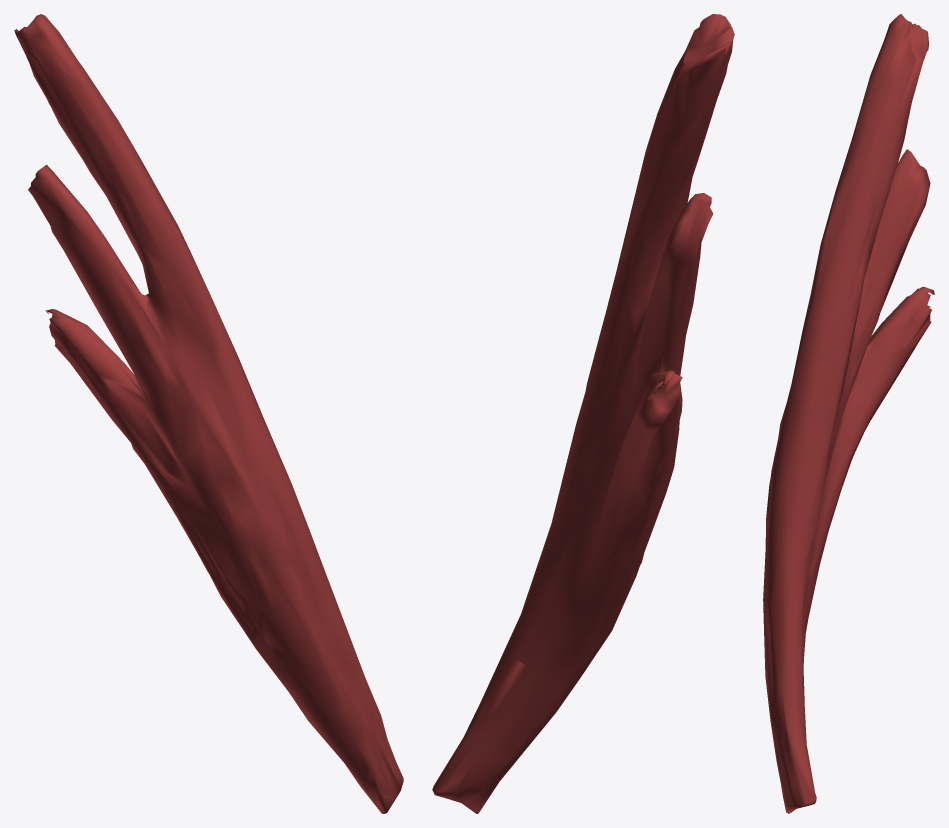
File: scalenus-anterior-muscle-l.glb
The picture shows the model from 3 angles, left to right: view 1: azimuth 30°, elevation 25°; view 2: azimuth 150°, elevation 25°; view 3: azimuth 270°, elevation 25°; orthographic projection. The views are drawn at different scales.
Visible parts, largest first — view 1: Scalenus anterior muscle.l; view 2: Scalenus anterior muscle.l; view 3: Scalenus anterior muscle.l.
Part boxes in pixels (x1,y1,x2,y2): Scalenus anterior muscle.l: [14, 14, 403, 813]; Scalenus anterior muscle.l: [432, 14, 734, 813]; Scalenus anterior muscle.l: [763, 14, 934, 813].
Bounding box in the file's own units: 0.0343 × 0.0828 × 0.0188.
